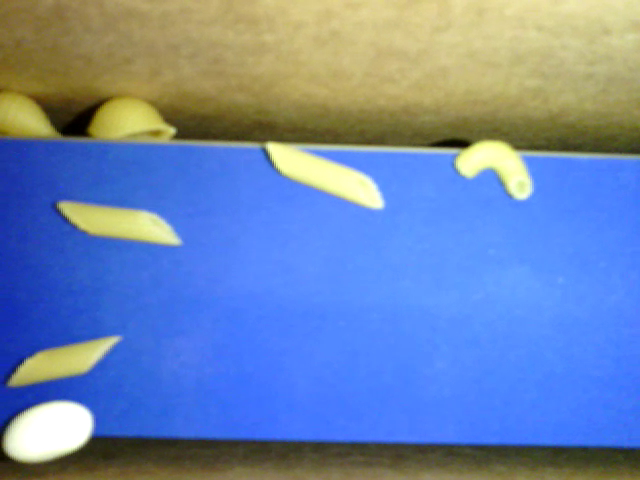elbow: (455, 135, 530, 202)
penne: (266, 136, 382, 212), (3, 331, 127, 389), (59, 199, 183, 249)
shell: (86, 93, 175, 143), (1, 86, 71, 141)
